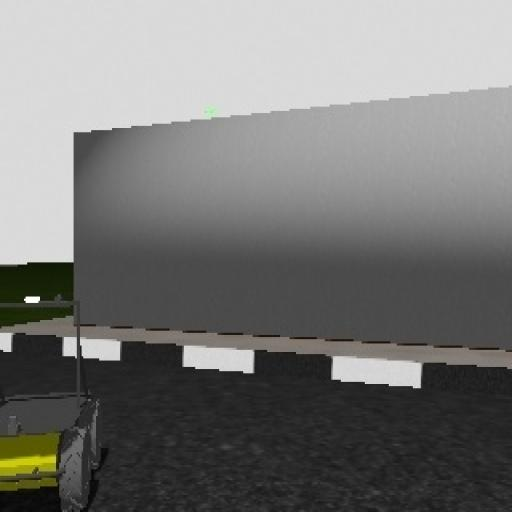huskya200: (0, 287, 104, 512)
